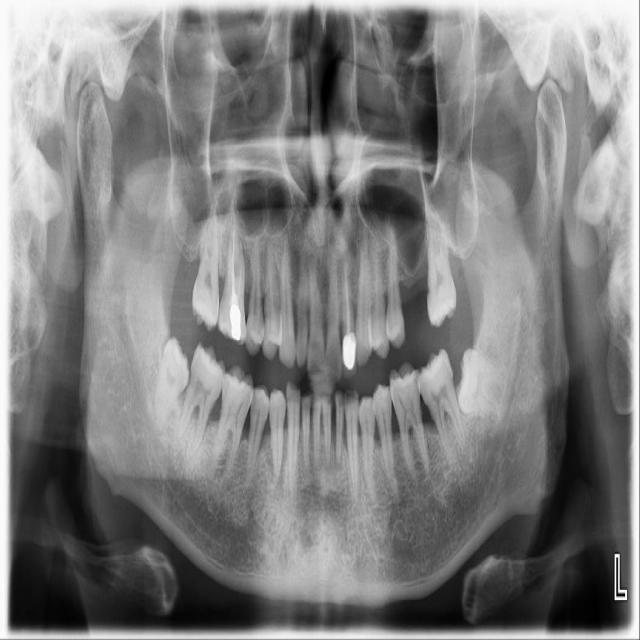Crown: (341, 332, 356, 381)
Filling: (217, 293, 247, 346)
Missing teeth: (397, 265, 429, 328)
Root Canal Treatment: (343, 262, 353, 336), (231, 232, 238, 298)
impacted tooth: (458, 349, 514, 421), (156, 339, 189, 428)
